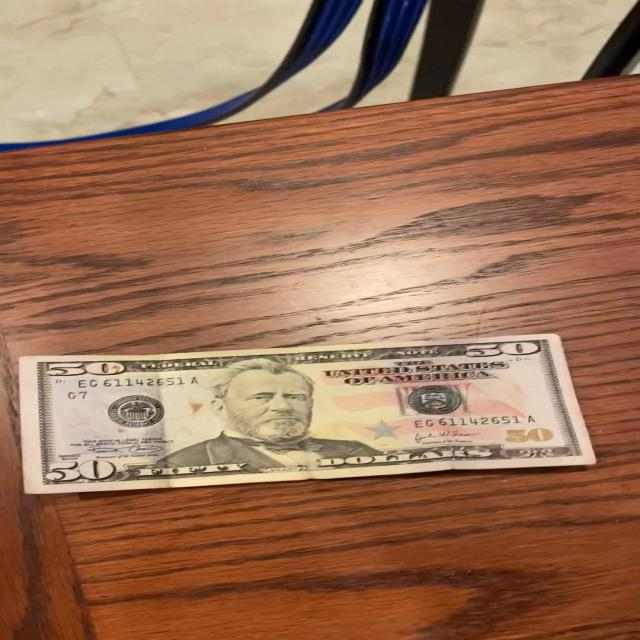50-Front: (0, 327, 617, 501)
